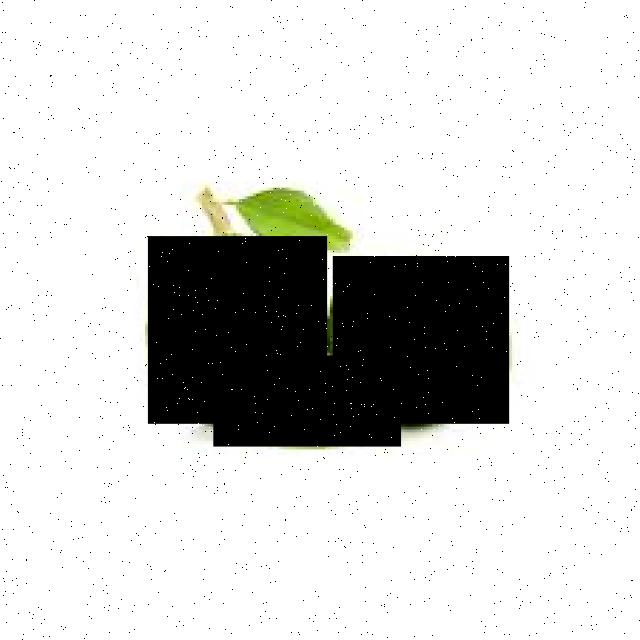Lemon: (148, 236, 327, 424), (333, 256, 509, 424), (213, 356, 401, 447)
